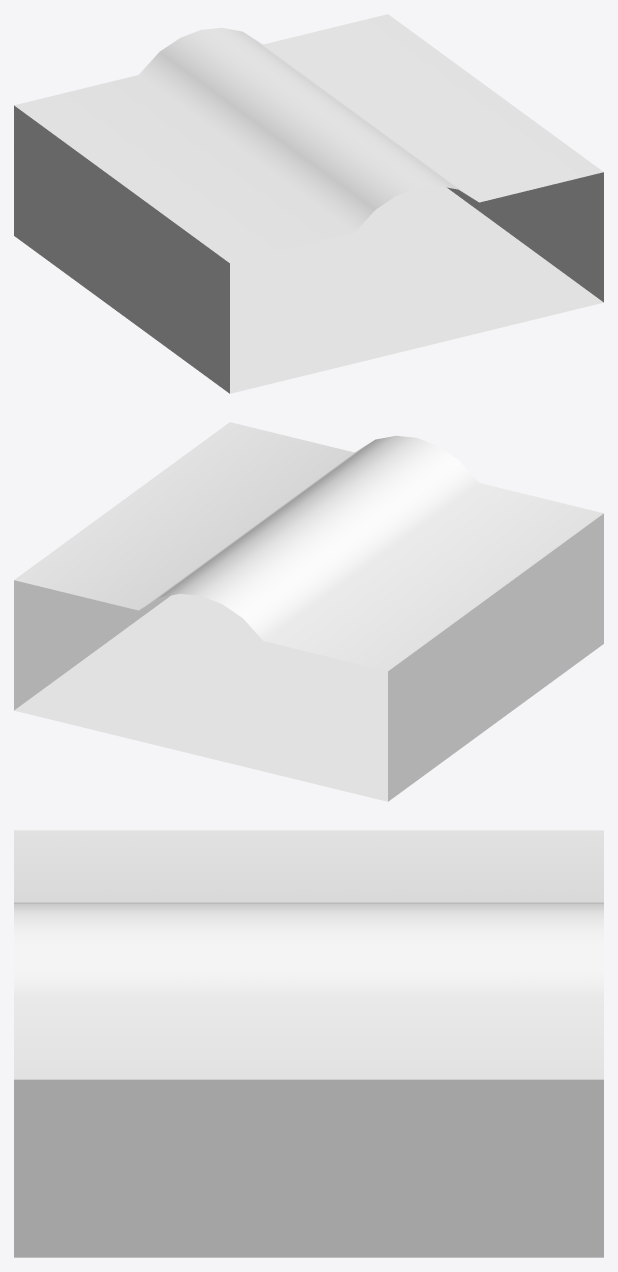
The model's file is straight and empty.fbx.
3 renders of one model, top to bottom at view 1: azimuth 30°, elevation 25°; view 2: azimuth 150°, elevation 25°; view 3: azimuth 270°, elevation 25°, orthographic. The views are drawn at different scales.
Parts seen in each view (by area): view 1: pPlane1; view 2: pPlane1; view 3: pPlane1.
Boxes of the visible parts, box(x1,y1,x2,y2) form: pPlane1: box(14, 14, 603, 393); pPlane1: box(14, 422, 603, 801); pPlane1: box(14, 830, 603, 1257).
Bounding box in the file's own units: 1500 × 614 × 1500.
